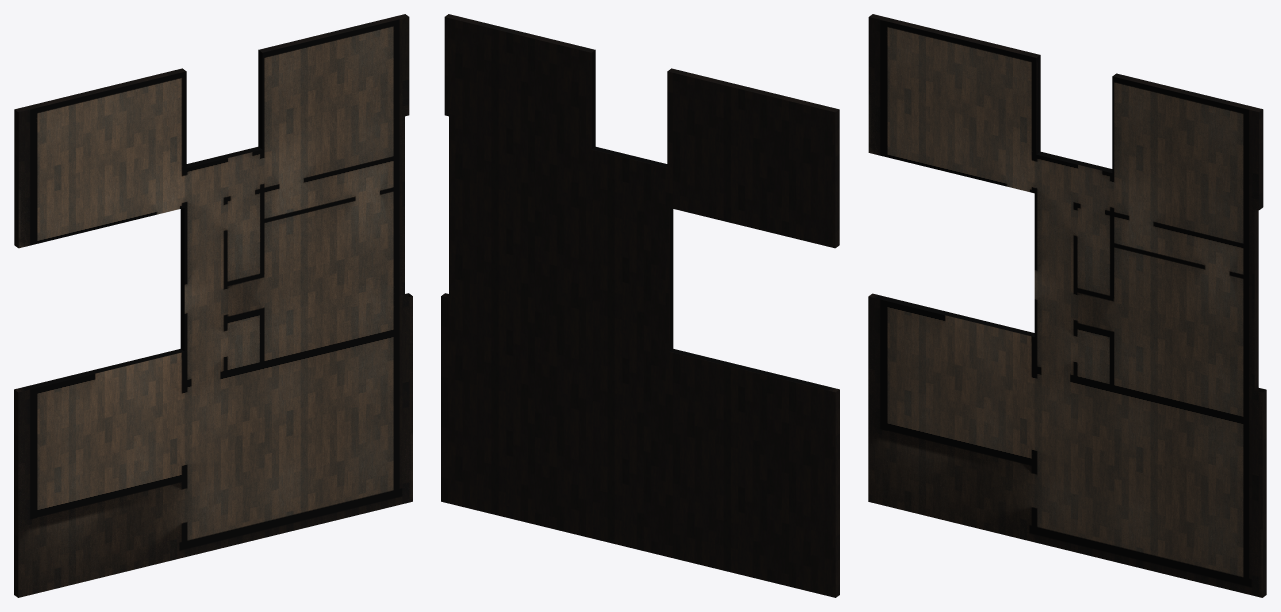
Rendered from floor_2_vm.obj.
The picture shows the model from 3 angles, left to right: view 1: azimuth 30°, elevation 25°; view 2: azimuth 150°, elevation 25°; view 3: azimuth 330°, elevation 25°; orthographic projection.
Bounding box in the file's own units: 11.05 × 12.99 × 0.2.
Materials: 1 (1 with a texture image).
